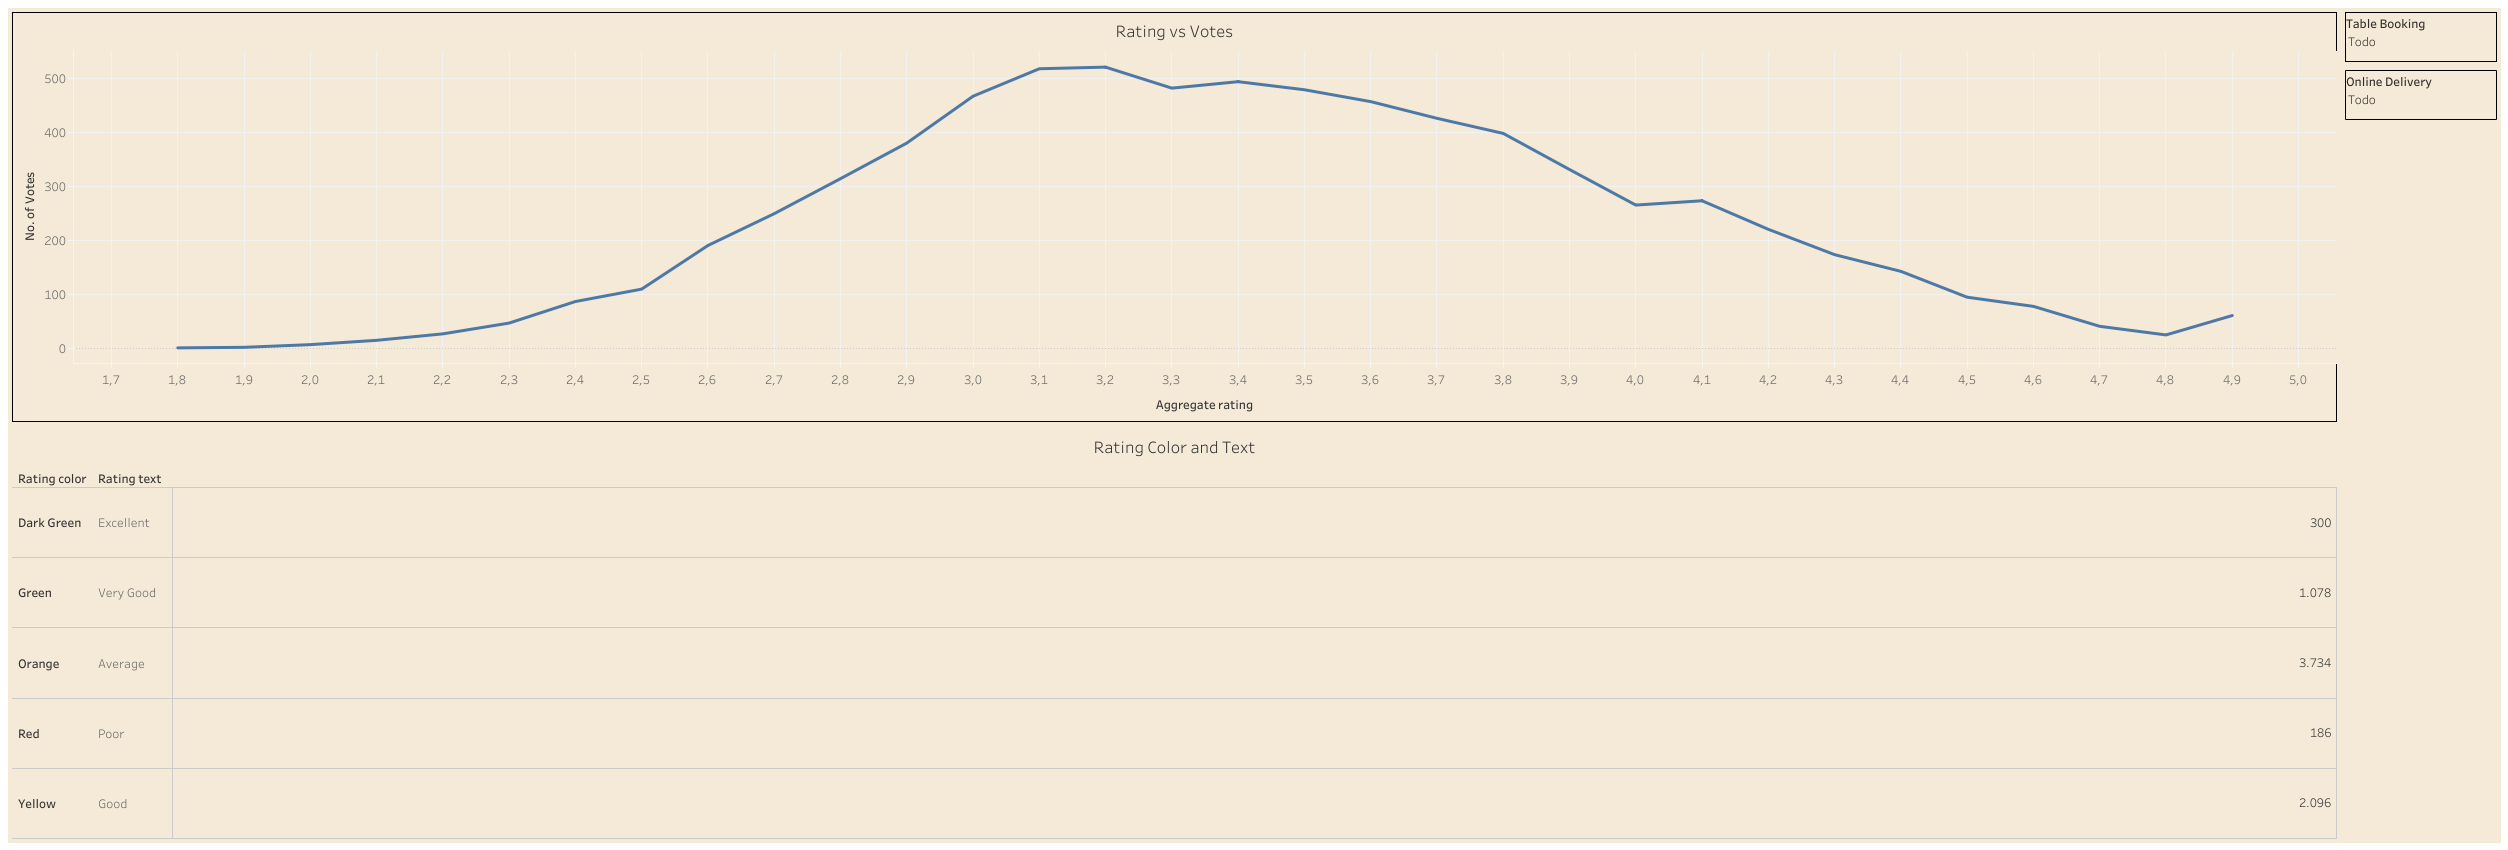

This screenshot's page, from the dashboard's own definition file:
{"tool":"tableau","page":{"name":"Dashboard 4","canvas":[1000,1000],"units":"permille","ordinal":3},"visuals":[{"type":"worksheet","title":"Rating vs Votes","mark":"Automatic","rows":["Zomato Data Clean.csv_21AE2CAA6D8C4C36BC3D1624E3A89E6F"],"cols":["Aggregate rating"],"box":[6.2,11.6,862.5,488.4]},{"type":"filter","title":"Rating vs Votes","param":"[federated.1qaar8u1x2t8921dy8yo61bezklz].[none:Has Table booking:nk]","box":[868.8,11.6,125,78.3]},{"type":"filter","title":"Rating vs Votes","param":"[federated.1qaar8u1x2t8921dy8yo61bezklz].[none:Has Online delivery:nk]","box":[868.8,89.9,125,78.3]},{"type":"worksheet","title":"Rate color and text","mark":"Automatic","rows":["Rating color","Rating text"],"box":[6.2,500,862.5,488.4]}]}

Visuals, with their boxes on the dashboard's canvas, which has no fixed pixel size, in thousandths of its width and height (x1, y1, x2, y2). These are canvas units, not pixel positions in the 2508x850 screenshot, which may show the page scaled, cropped or inside an application window:
"Rating vs Votes" worksheet: x1=6, y1=12, x2=869, y2=500
"Rating vs Votes" filter: x1=869, y1=12, x2=994, y2=90
"Rating vs Votes" filter: x1=869, y1=90, x2=994, y2=168
"Rate color and text" worksheet: x1=6, y1=500, x2=869, y2=988
